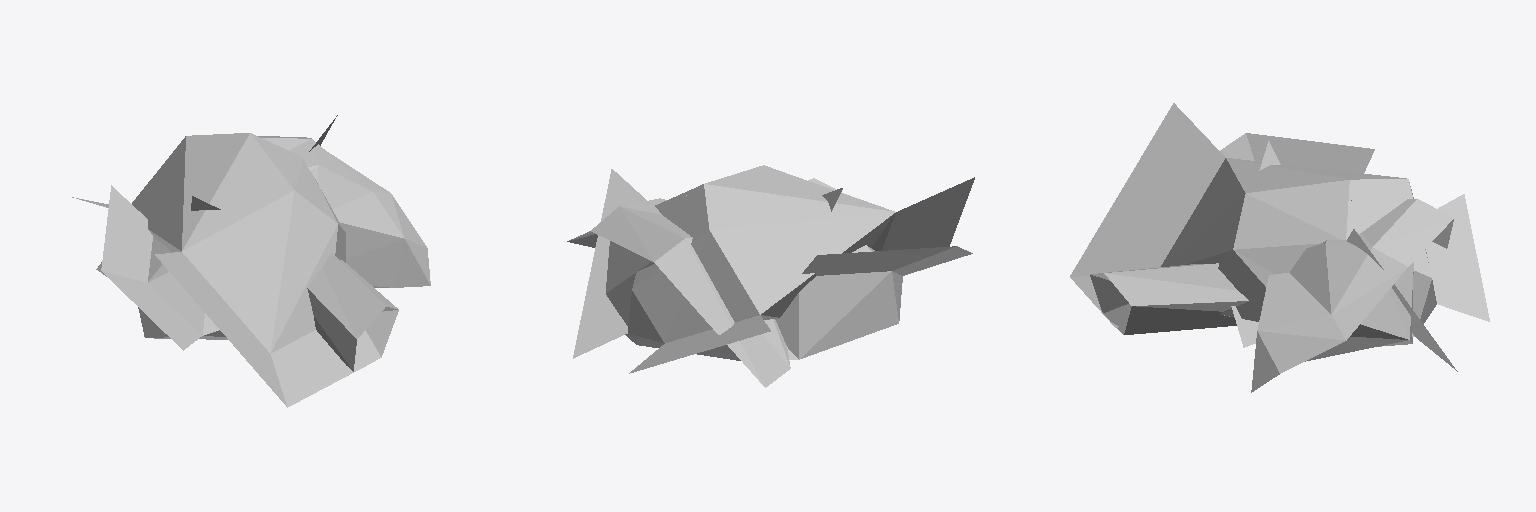
Rendered from Innard Chunks.obj.
The picture shows the model from 3 angles: view 1: azimuth 30°, elevation 25°; view 2: azimuth 150°, elevation 25°; view 3: azimuth 270°, elevation 25°; orthographic projection.
Visible parts, largest first — view 1: flood_bit_innards; view 2: flood_bit_innards; view 3: flood_bit_innards.
Part boxes in pixels (x1,y1,x2,y2): flood_bit_innards: (72,115,430,407); flood_bit_innards: (567,165,974,387); flood_bit_innards: (1070,103,1489,392).
Size of the model in its own units: 13.84 by 6.97 by 14.68.